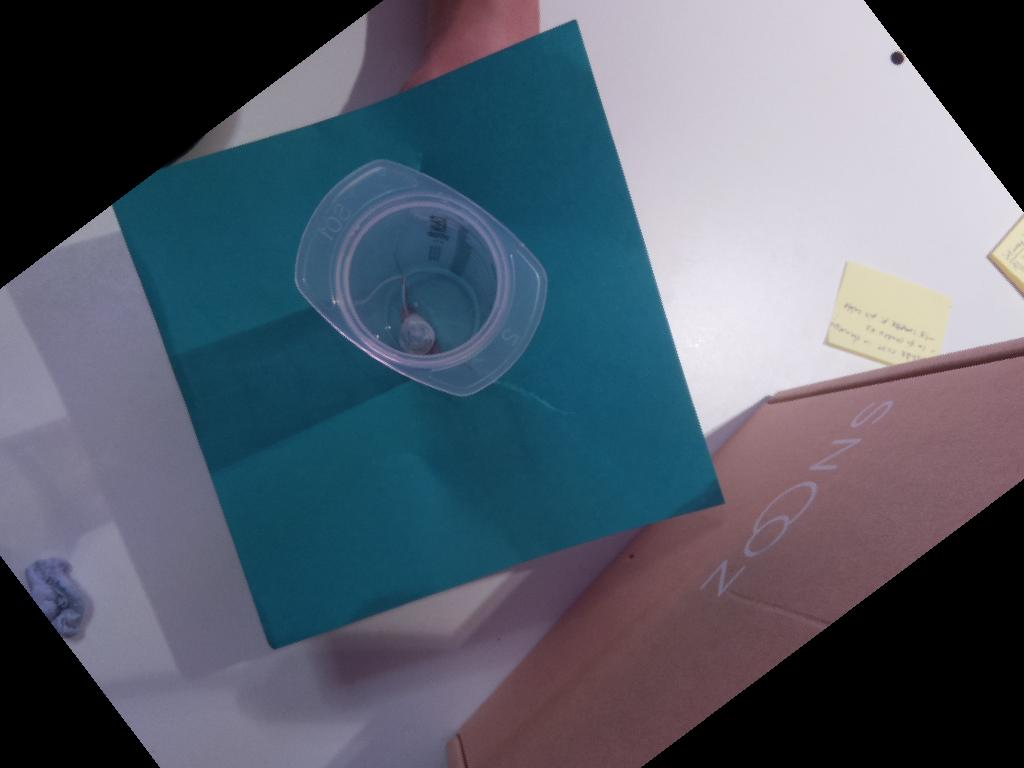clean: (293, 157, 549, 396)
